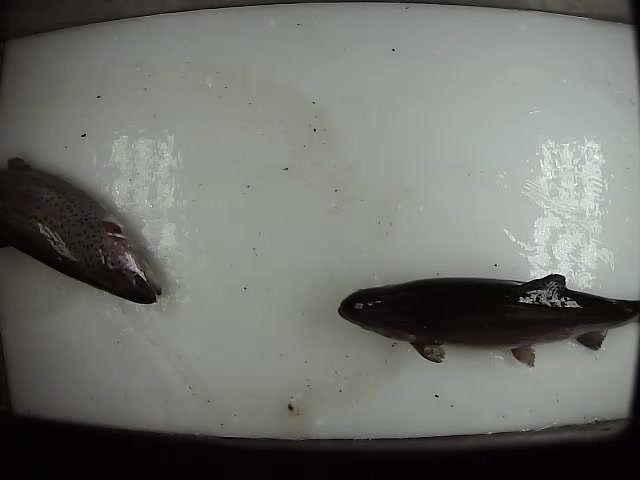fish: (334, 272, 640, 371), (3, 154, 166, 308)
